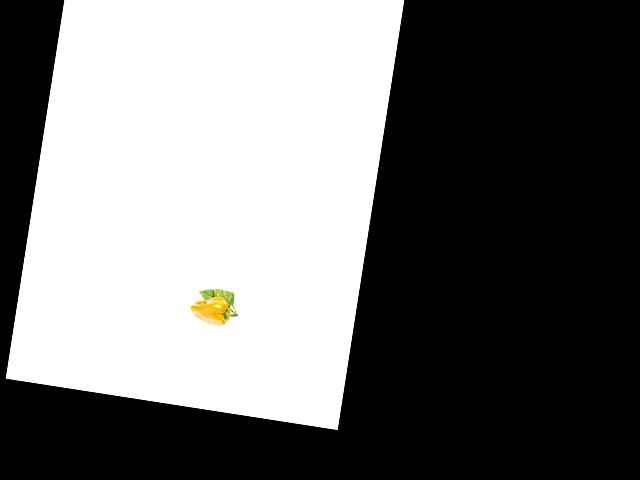bell_pepper: (186, 292, 241, 330)
